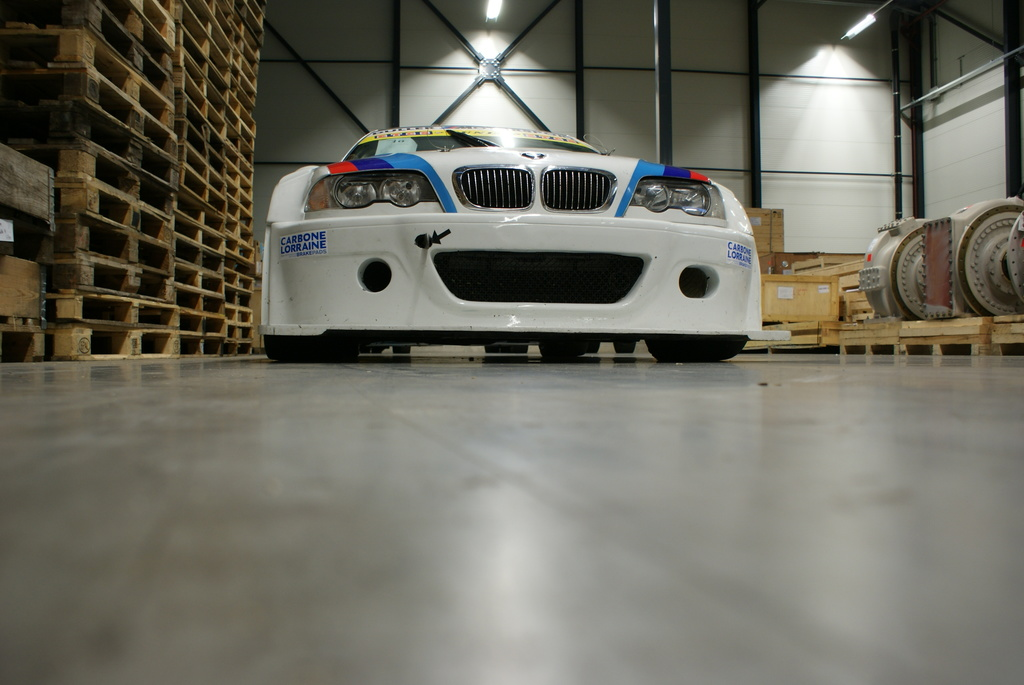Car: (277, 112, 789, 368)
